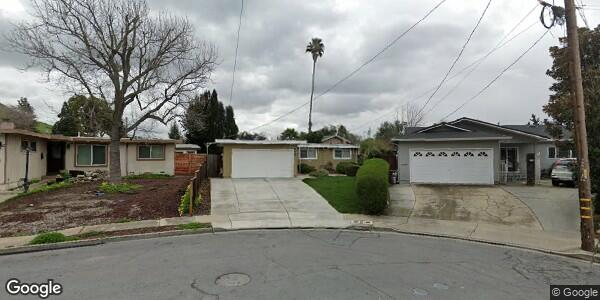Wood_Pole: (540, 1, 597, 251)
